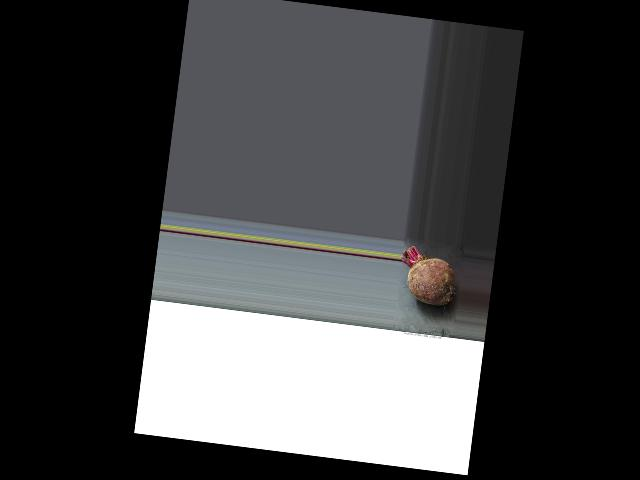beet: (396, 245, 458, 307)
